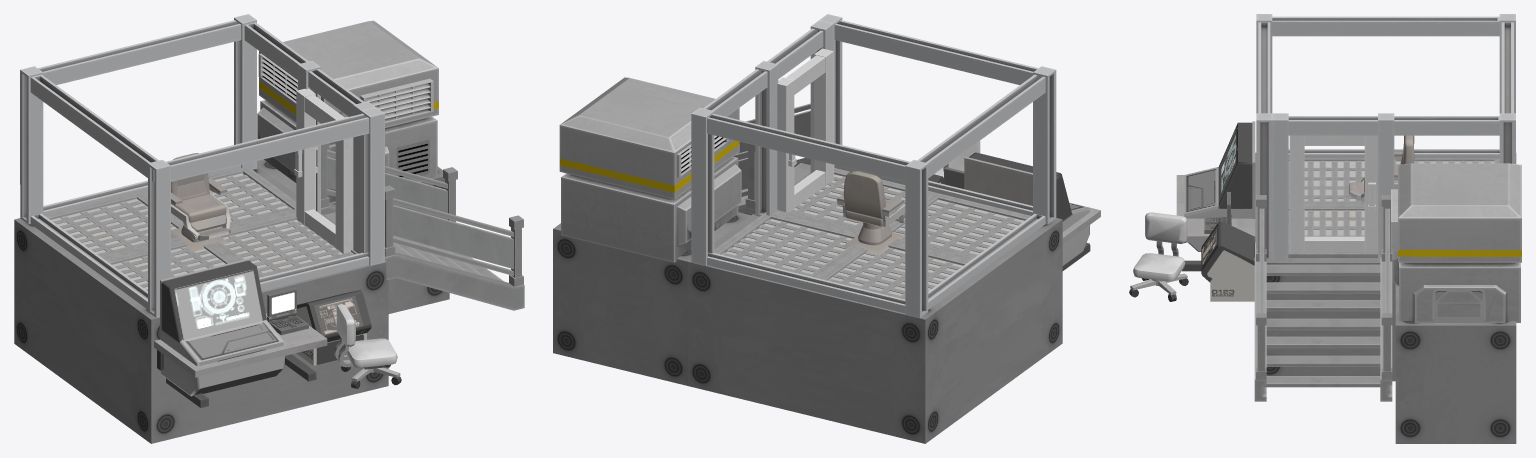
File: Pfb_ObservationDeck_Temp__8.fbx
3 renders of one model, left to right at view 1: azimuth 30°, elevation 25°; view 2: azimuth 150°, elevation 25°; view 3: azimuth 270°, elevation 25°, orthographic. The views are drawn at different scales.
Visible parts, largest first — view 1: Mat_SteelFrame_01, MAT_ScalableMesh_01, Mat_Ventilation_Soda, Mat_Stairs_Soda, Mat_Network_01_2, MAT_Soda_Instruments_Grey 6, Mat_TS_Metall 2, Mat_Tile_Color_01 7, Mat_Table_01, Mat_Tile_Color_07 2, MAT_Soda_Instruments_Grey 7, Mat_Chair_01 (+2 smaller); view 2: MAT_ScalableMesh_01, Mat_SteelFrame_01, Mat_Ventilation_Soda, Mat_Network_01_2, Mat_TS_Metall 2, Mat_Tile_Color_01 7, Mat_Tile_Color_07 2, Mat_CementMold_1, Mat_Stairs_Soda, MAT_Soda_Instruments_Grey 6, Mat_Table_01; view 3: MAT_ScalableMesh_01, Mat_SteelFrame_01, Mat_Ventilation_Soda, Mat_Stairs_Soda, Mat_TS_Metall 2, Mat_Network_01_2, MAT_Soda_Instruments_Grey 6, MAT_Soda_Instruments_Grey 7, Mat_Chair_01, Mat_Tile_Color_01 7, Mat_Table_01, Mat_Tile_Color_07 2 (+2 smaller).
Part boxes in pixels (left/top/right/bottom): Mat_SteelFrame_01: left=20, top=14, right=384, bottom=317; MAT_ScalableMesh_01: left=14, top=159, right=449, bottom=443; Mat_Ventilation_Soda: left=257, top=20, right=438, bottom=202; Mat_Stairs_Soda: left=321, top=143, right=524, bottom=310; Mat_Network_01_2: left=38, top=167, right=358, bottom=299; MAT_Soda_Instruments_Grey 6: left=161, top=261, right=284, bottom=396; Mat_TS_Metall 2: left=296, top=88, right=353, bottom=253; Mat_Tile_Color_01 7: left=51, top=173, right=342, bottom=289; Mat_Table_01: left=154, top=313, right=327, bottom=407; Mat_Tile_Color_07 2: left=171, top=153, right=229, bottom=251; MAT_Soda_Instruments_Grey 7: left=296, top=290, right=371, bottom=365; Mat_Chair_01: left=334, top=304, right=401, bottom=388; MAT_ScalableMesh_01: left=553, top=172, right=1062, bottom=443; Mat_SteelFrame_01: left=691, top=14, right=1056, bottom=317; Mat_Ventilation_Soda: left=559, top=77, right=741, bottom=262; Mat_Network_01_2: left=714, top=168, right=1037, bottom=299; Mat_TS_Metall 2: left=777, top=48, right=833, bottom=212; Mat_Tile_Color_01 7: left=725, top=174, right=1024, bottom=295; Mat_Tile_Color_07 2: left=837, top=171, right=905, bottom=255; Mat_CementMold_1: left=964, top=157, right=1032, bottom=205; Mat_Stairs_Soda: left=733, top=103, right=810, bottom=215; MAT_Soda_Instruments_Grey 6: left=969, top=152, right=1089, bottom=266; Mat_Table_01: left=1062, top=203, right=1100, bottom=270; MAT_ScalableMesh_01: left=1255, top=152, right=1516, bottom=443; Mat_SteelFrame_01: left=1256, top=14, right=1515, bottom=261; Mat_Ventilation_Soda: left=1391, top=163, right=1521, bottom=322; Mat_Stairs_Soda: left=1254, top=195, right=1392, bottom=401; Mat_TS_Metall 2: left=1289, top=135, right=1377, bottom=252; Mat_Network_01_2: left=1288, top=158, right=1499, bottom=257; MAT_Soda_Instruments_Grey 6: left=1184, top=122, right=1252, bottom=251; MAT_Soda_Instruments_Grey 7: left=1201, top=221, right=1254, bottom=301; Mat_Chair_01: left=1129, top=212, right=1188, bottom=301; Mat_Tile_Color_01 7: left=1304, top=161, right=1494, bottom=235; Mat_Table_01: left=1176, top=175, right=1255, bottom=271; Mat_Tile_Color_07 2: left=1349, top=135, right=1414, bottom=195.
Size of the model in its own units: 6.29 by 4.39 by 6.02.
16 materials, 16 textured.
